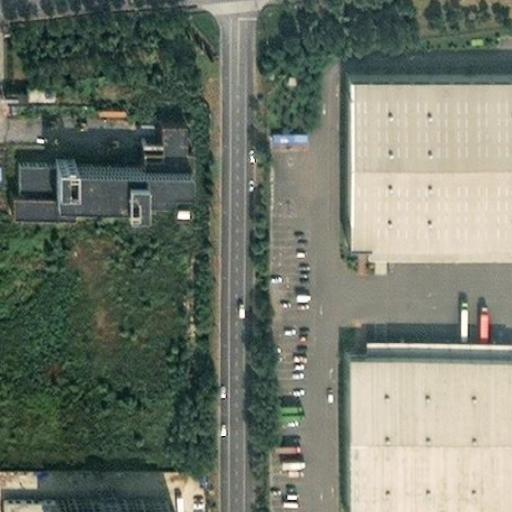building: (344, 69, 512, 242), (5, 104, 176, 205), (42, 482, 161, 512), (353, 325, 494, 339), (269, 129, 310, 146), (0, 482, 29, 506), (26, 83, 59, 102)
